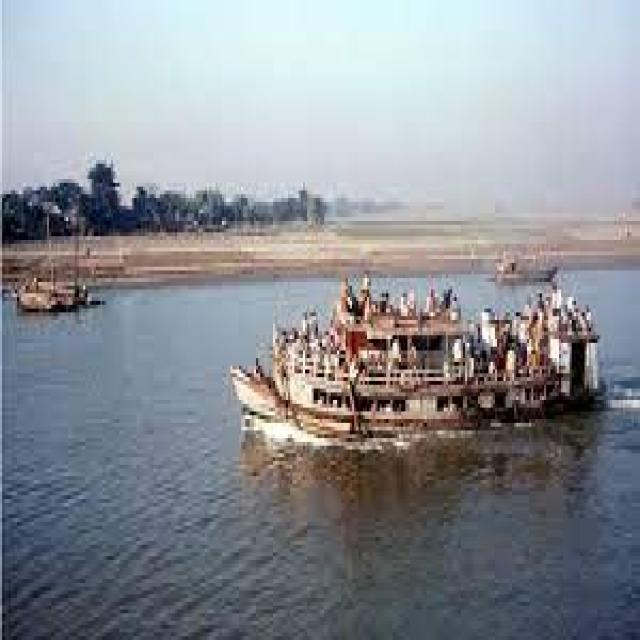houseboat: (230, 216, 604, 472)
